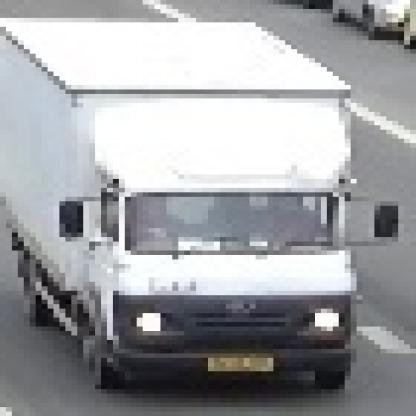truck: (1, 15, 399, 395)
